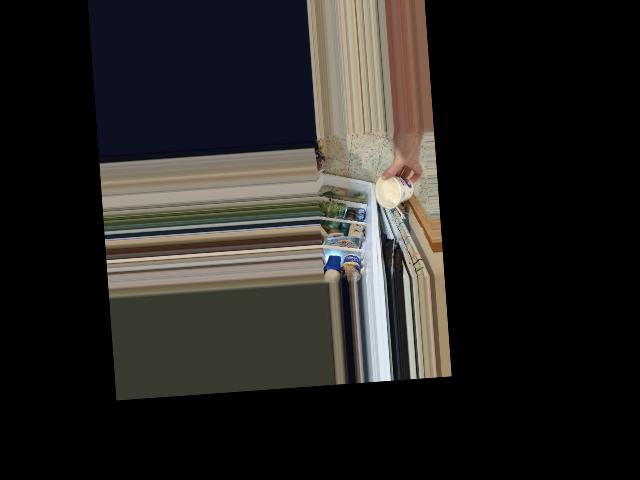cotage: (374, 170, 416, 207)
